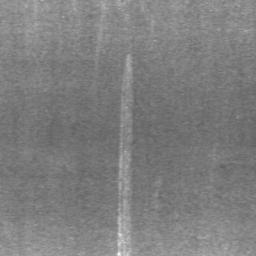Bright scratch: (117, 54, 133, 256)
